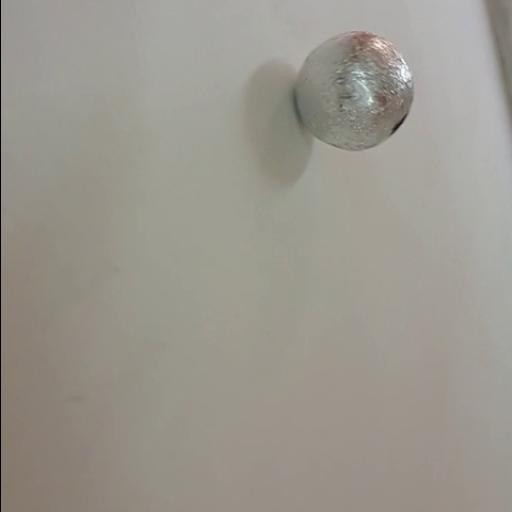alive: (290, 26, 416, 152)
